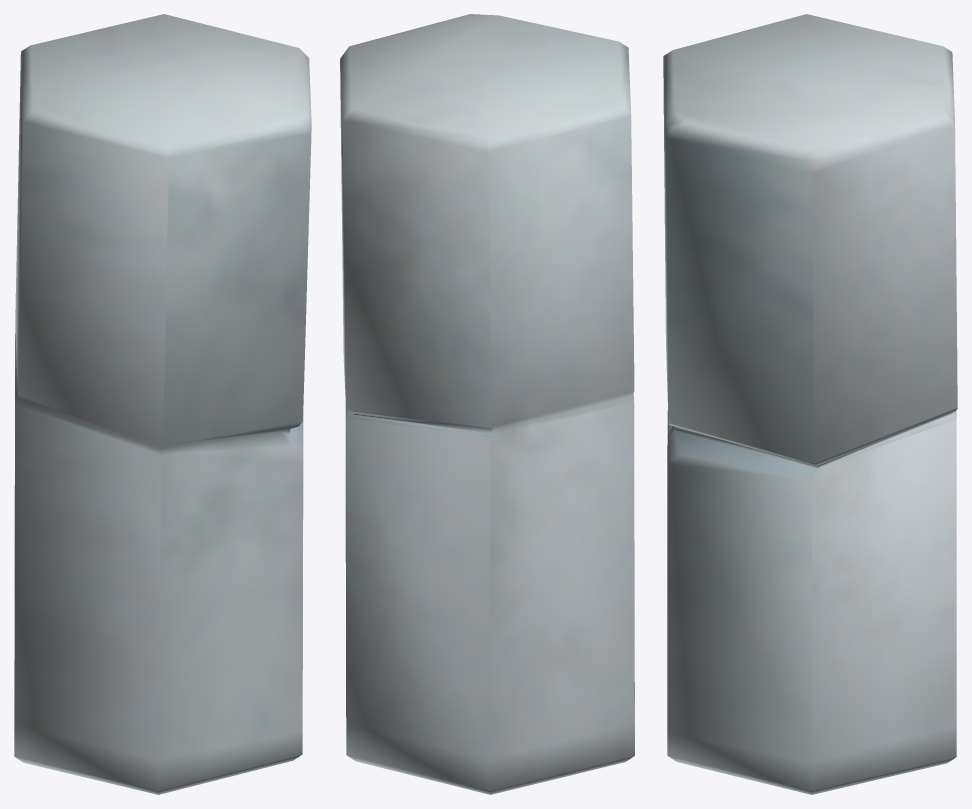
The model's file is P_RockHexic_Piece11.obj.
3 views of the same model, side by side, from view 1: azimuth 30°, elevation 25°; view 2: azimuth 150°, elevation 25°; view 3: azimuth 270°, elevation 25° (orthographic).
Bounding box in the file's own units: 4.33 × 9.16 × 3.74.
